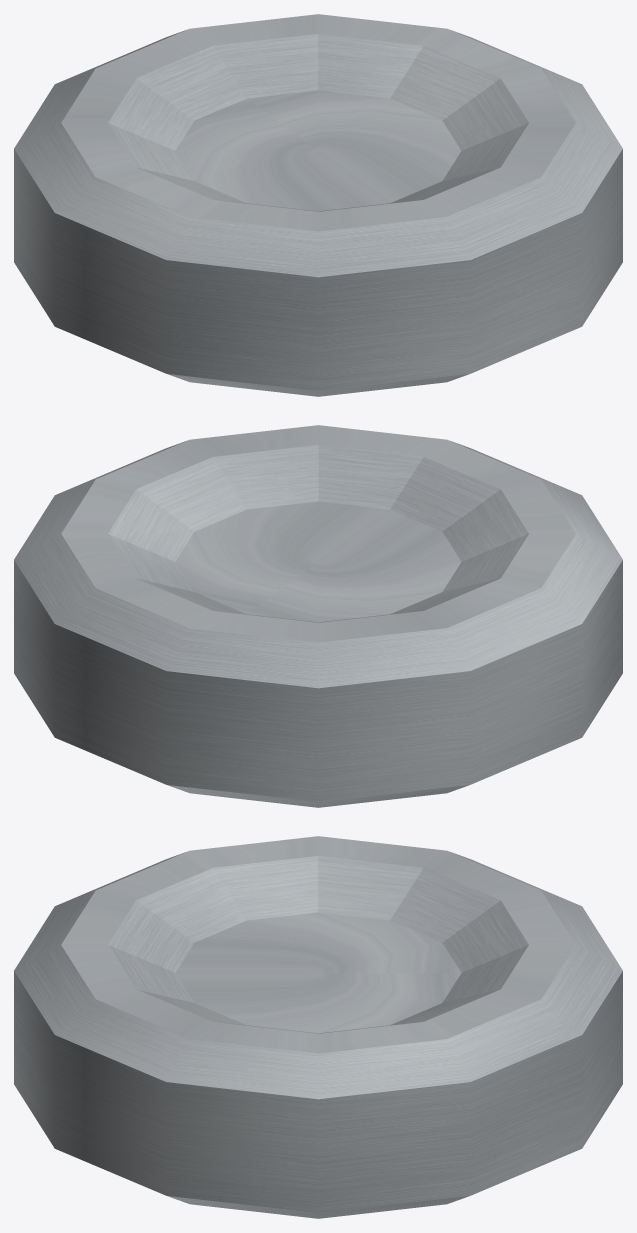
The model's file is coin.fbx.
3 renders of one model, top to bottom at view 1: azimuth 30°, elevation 25°; view 2: azimuth 150°, elevation 25°; view 3: azimuth 270°, elevation 25°, orthographic.
Visible parts, largest first — view 1: pCylinder1; view 2: pCylinder1; view 3: pCylinder1.
Boxes of the visible parts, x1,y1,x2,y2 form: pCylinder1: (14,14,622,396); pCylinder1: (14,425,622,807); pCylinder1: (14,836,622,1218).
Bounding box in the file's own units: 6.94 × 2.08 × 6.94.
Materials: 1 (1 with a texture image).
